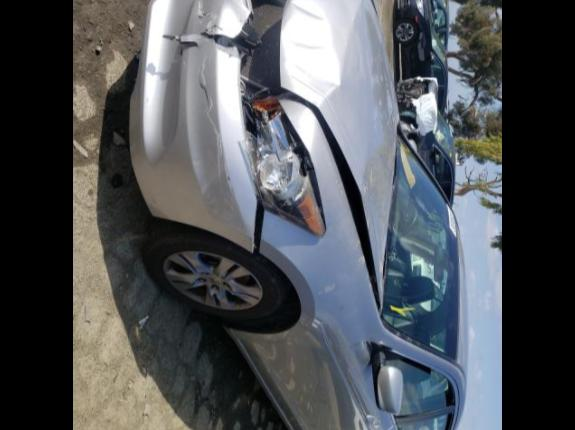Broken part: (239, 0, 384, 310), (242, 88, 326, 234)
Dent: (278, 0, 362, 106), (290, 0, 320, 18), (292, 42, 320, 48)
Missing part: (250, 0, 294, 38)
Scratch: (198, 60, 226, 198), (192, 0, 232, 36), (224, 160, 234, 194)
